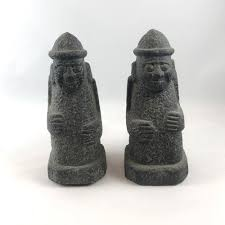Stone Statue: (111, 23, 194, 189), (36, 28, 113, 189)
